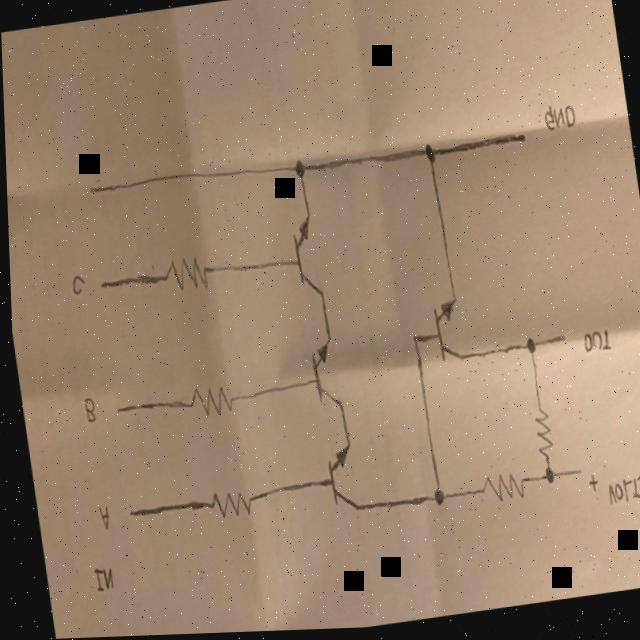junction: (287, 156, 311, 193), (421, 483, 447, 517), (418, 143, 437, 174), (519, 337, 537, 367), (536, 468, 556, 495)
resistor: (157, 253, 213, 303), (181, 381, 234, 425), (471, 470, 527, 510), (202, 487, 254, 524), (527, 404, 555, 468)
terminal: (515, 133, 528, 150), (554, 334, 566, 352), (120, 507, 132, 523), (570, 470, 581, 486), (95, 278, 104, 294), (85, 185, 95, 198), (110, 404, 118, 419)
text: (538, 101, 582, 144), (599, 476, 640, 517), (576, 326, 611, 365), (84, 562, 116, 602), (76, 392, 99, 429), (64, 267, 86, 303), (89, 499, 110, 536), (580, 474, 597, 503)
transistor: (282, 209, 335, 308), (298, 329, 349, 420), (314, 439, 365, 527), (422, 294, 474, 373)
